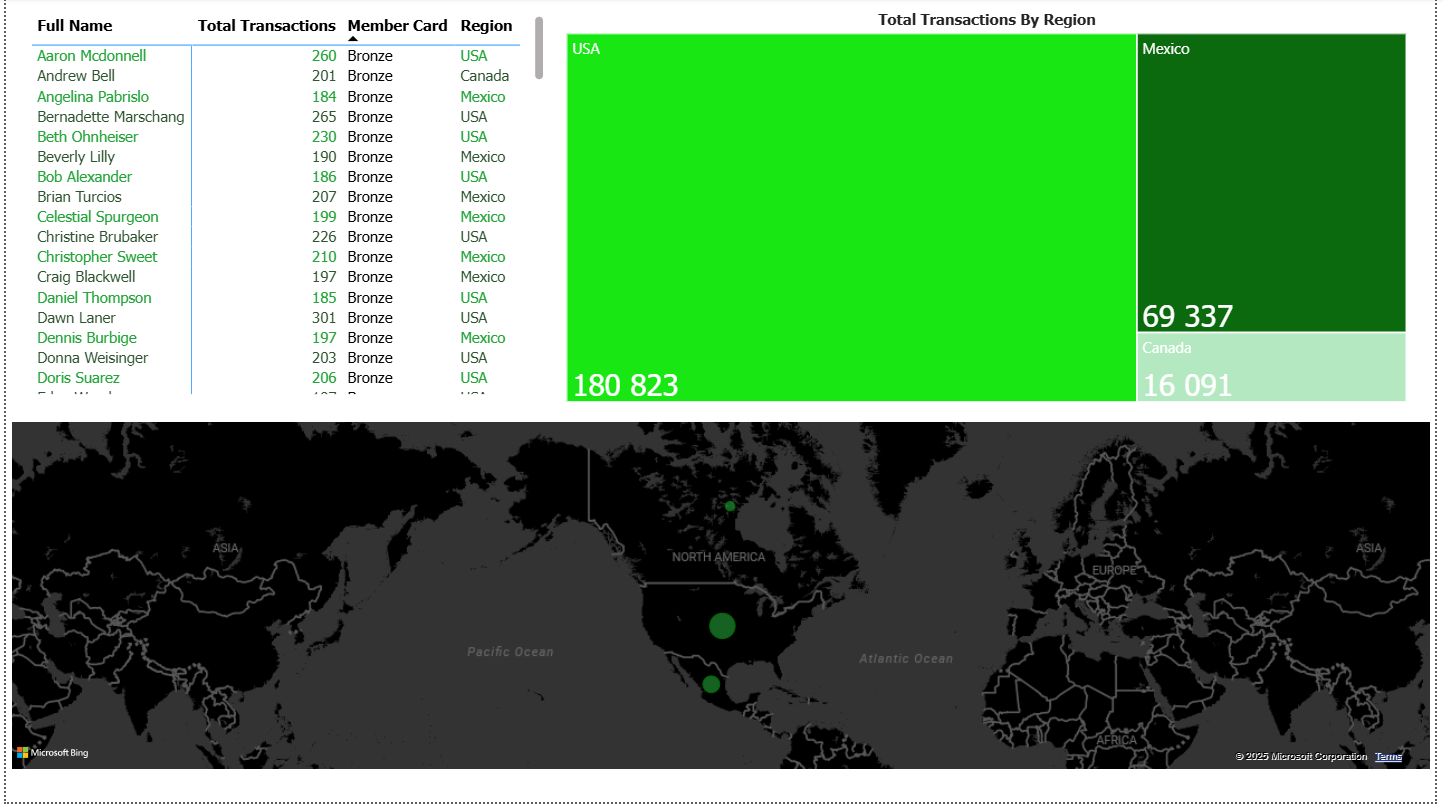

The page's visual inventory and layout, read from the dashboard file:
{"tool":"powerbi","page":{"name":"Customer Page","canvas":[1280,720],"ordinal":1},"visuals":[{"type":"pivotTable","fields":{"Rows":["Customers.Full Name"],"Values":["Cal Measures.Total Transactions","Min(Customers.Member Card)","Min(Customers.Country/Region)"]},"box":[17.9,10.7,469.3,349.3],"z":0},{"type":"treemap","title":"Total Transactions By Region","fields":{"Group":["Stores.Country/Region","Stores.State","Stores.City"],"Values":["Cal Measures.Total Transactions"]},"box":[497,10.7,763,356.4],"z":1000},{"type":"map","fields":{"Category":["Stores.Country/Region"],"Size":["Cal Measures.Total Transactions"]},"box":[0,374.3,1279.7,321.5],"z":2000}]}

Visuals, with their boxes in screenshot pixels (x1, y1, x2, y2), scaled from the page's 1280x720 canvas onto the 1443x807 screenshot:
pivotTable - Customers.Full Name x Cal Measures.Total Transactions: 20 12 549 404
"Total Transactions By Region" treemap: 560 12 1420 411
map - Stores.Country/Region x Cal Measures.Total Transactions: 0 420 1442 780
